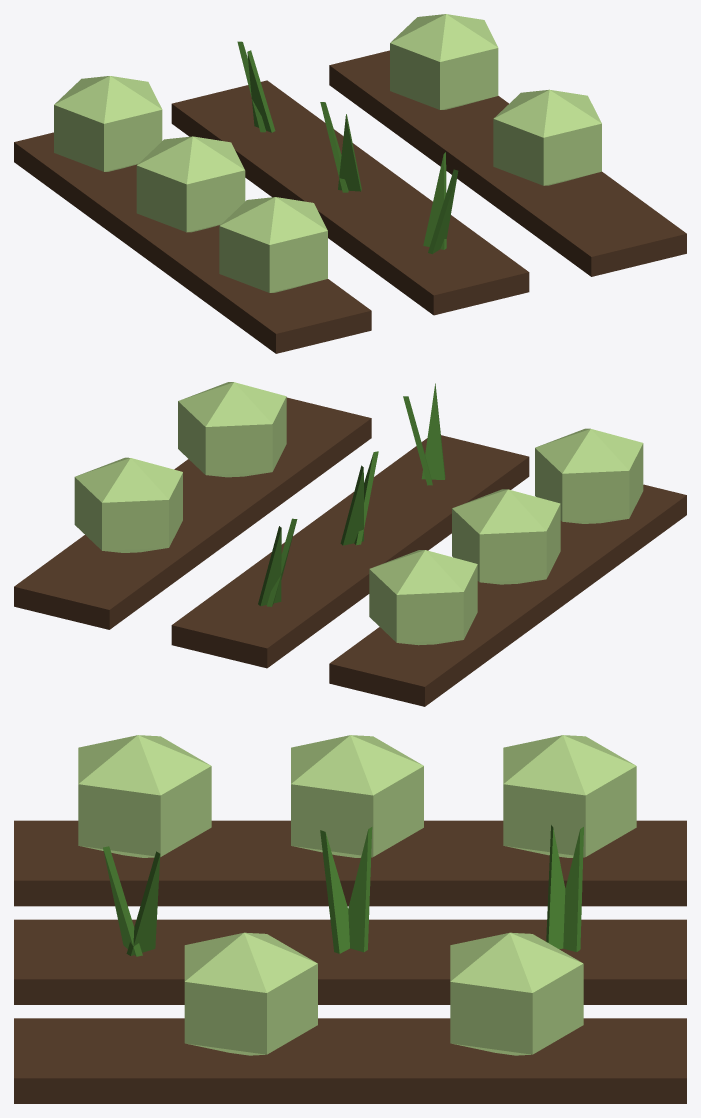
Rendered from crop_vegetables_3.glb.
The picture shows the model from 3 angles, top to bottom: view 1: azimuth 30°, elevation 25°; view 2: azimuth 150°, elevation 25°; view 3: azimuth 270°, elevation 25°; orthographic projection. The views are drawn at different scales.
Visible parts, largest first — view 1: crop_vegetables_3; view 2: crop_vegetables_3; view 3: crop_vegetables_3.
Part boxes in pixels (x1,y1,x2,y2): crop_vegetables_3: (14,14,686,353); crop_vegetables_3: (14,382,686,706); crop_vegetables_3: (14,735,686,1103).
Bounding box in the file's own units: 1.72 × 0.44 × 1.9.
